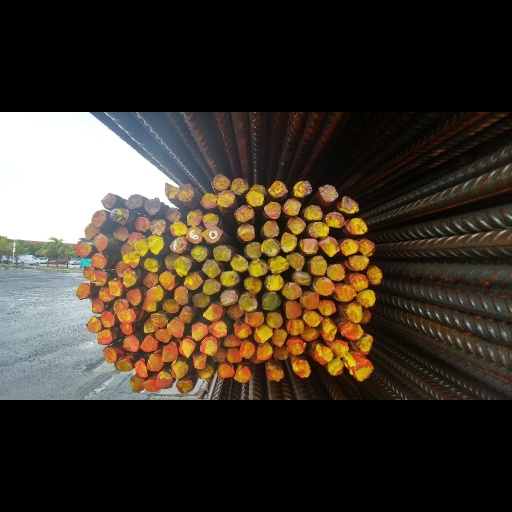dipstick: (355, 440, 374, 480), (319, 221, 339, 258), (315, 293, 334, 327), (318, 128, 338, 160), (342, 375, 363, 405), (199, 399, 218, 432), (261, 224, 280, 257), (269, 257, 289, 288), (280, 213, 297, 249), (262, 320, 281, 352), (267, 122, 287, 152), (234, 166, 254, 196), (238, 324, 258, 354), (347, 187, 367, 217), (175, 256, 191, 293), (293, 121, 312, 152), (340, 150, 359, 181), (203, 342, 223, 371), (203, 203, 223, 232), (147, 218, 163, 254), (202, 262, 220, 294), (287, 185, 305, 217), (293, 440, 311, 472), (315, 416, 333, 448), (340, 225, 359, 255), (171, 441, 188, 474), (178, 403, 195, 436), (309, 195, 329, 223), (325, 177, 345, 205), (311, 255, 327, 290), (263, 160, 281, 191), (347, 338, 362, 375), (254, 380, 273, 409), (249, 263, 268, 292), (282, 303, 301, 332), (303, 353, 322, 382), (159, 283, 175, 317), (285, 336, 302, 368), (162, 408, 177, 444), (208, 371, 226, 401), (220, 314, 238, 344), (327, 270, 345, 300), (286, 405, 306, 432), (110, 171, 129, 199), (337, 308, 356, 336), (178, 127, 194, 160), (168, 368, 184, 401), (144, 152, 161, 183), (234, 371, 251, 402), (302, 320, 319, 351), (332, 407, 349, 438), (217, 139, 235, 168), (169, 221, 187, 250), (286, 253, 304, 282), (265, 288, 283, 317), (299, 224, 318, 251), (349, 255, 368, 282), (186, 202, 202, 234), (257, 408, 273, 440), (212, 109, 229, 139), (122, 248, 139, 278), (191, 376, 208, 406), (284, 154, 301, 184), (351, 288, 368, 318), (184, 287, 202, 315), (203, 297, 221, 325), (243, 294, 261, 322), (266, 451, 284, 479), (239, 408, 255, 439), (359, 315, 375, 346), (322, 374, 337, 407), (169, 195, 188, 221), (292, 283, 311, 309), (238, 199, 255, 228), (231, 253, 248, 282), (266, 356, 283, 385), (125, 145, 143, 172), (213, 237, 231, 264), (245, 355, 263, 382), (186, 172, 202, 202), (156, 462, 172, 492), (147, 430, 163, 460), (246, 230, 262, 260), (263, 192, 279, 222), (359, 226, 375, 256), (246, 139, 263, 167), (123, 278, 137, 312), (190, 237, 207, 265), (305, 164, 322, 192), (287, 368, 304, 396), (359, 398, 373, 432), (117, 351, 136, 376), (161, 332, 179, 358), (367, 275, 382, 306), (328, 439, 343, 470), (174, 309, 188, 342), (202, 179, 219, 206), (140, 399, 157, 426), (149, 191, 166, 218), (197, 447, 214, 474), (319, 334, 336, 361), (92, 173, 107, 203), (272, 386, 287, 416), (301, 383, 319, 408), (101, 144, 117, 172), (91, 251, 107, 279), (123, 398, 139, 426), (147, 309, 163, 337), (178, 343, 192, 375), (200, 144, 217, 170), (221, 282, 238, 308), (222, 394, 241, 417), (130, 468, 145, 497), (134, 226, 148, 257), (75, 230, 91, 257), (226, 420, 242, 447), (150, 358, 167, 383), (231, 118, 246, 146), (164, 125, 178, 155), (113, 203, 128, 231), (101, 353, 115, 383), (134, 442, 148, 472), (114, 332, 129, 360), (165, 169, 181, 195), (94, 216, 107, 248), (176, 476, 193, 500), (217, 448, 234, 472), (87, 363, 101, 392), (193, 428, 207, 457), (97, 386, 112, 413), (143, 365, 158, 392), (109, 297, 122, 328), (193, 322, 209, 347), (227, 343, 243, 368), (273, 416, 289, 441), (85, 198, 99, 226), (76, 304, 90, 332), (142, 329, 156, 357), (143, 284, 157, 312), (165, 251, 179, 279), (143, 258, 158, 284), (155, 384, 171, 408), (235, 456, 251, 480), (99, 310, 113, 337), (142, 476, 160, 497), (103, 416, 116, 445), (116, 264, 129, 293), (117, 437, 133, 460), (128, 212, 142, 238), (135, 186, 149, 212), (211, 421, 225, 446), (83, 273, 95, 301), (120, 232, 134, 256), (95, 282, 107, 309), (91, 330, 103, 356), (362, 350, 371, 377), (120, 376, 132, 396)
